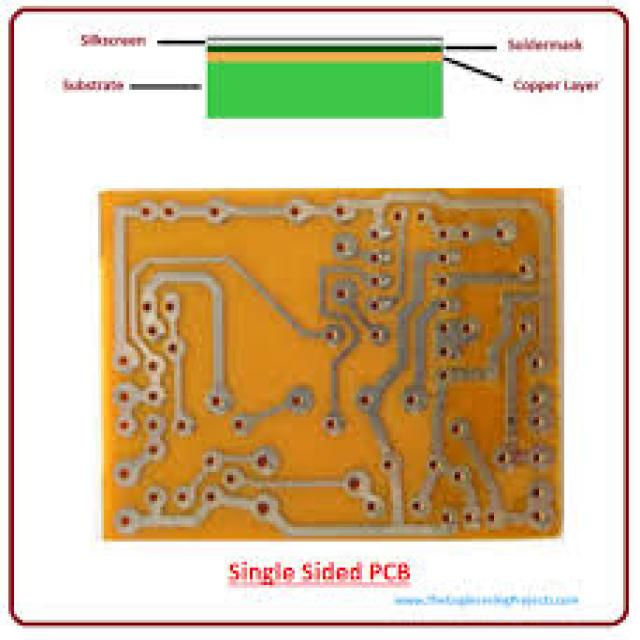pcb: (96, 186, 564, 542)
